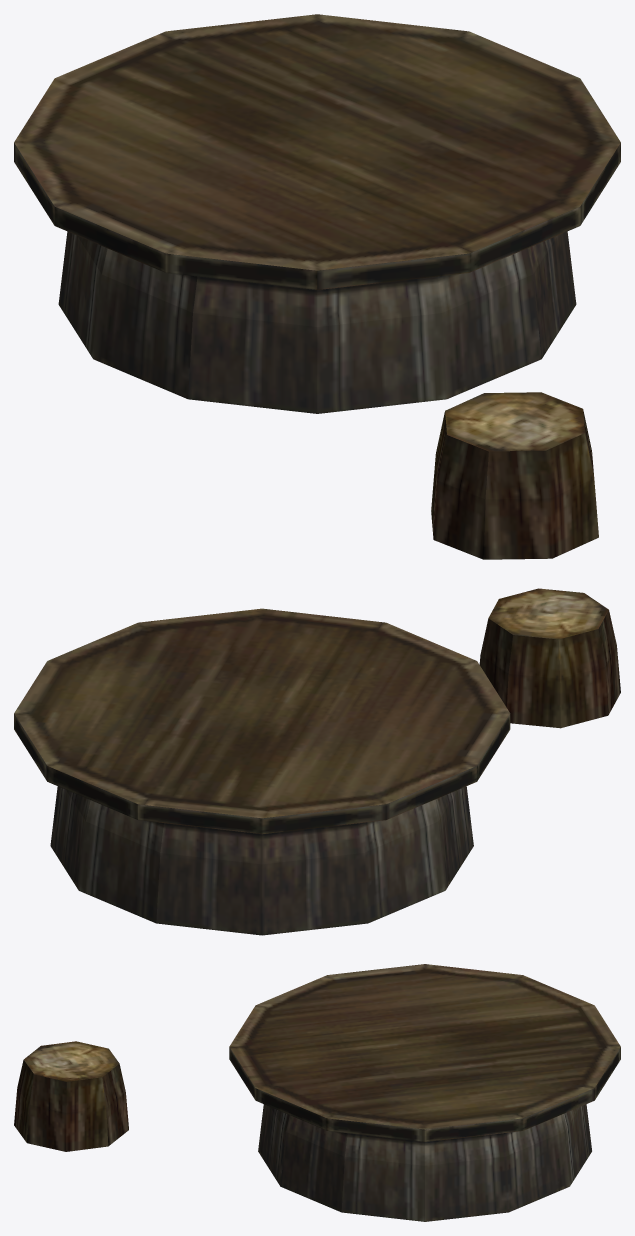
3 renders of one model, top to bottom at view 1: azimuth 30°, elevation 25°; view 2: azimuth 150°, elevation 25°; view 3: azimuth 270°, elevation 25°, orthographic. The views are drawn at different scales.
Visible parts, largest first — view 1: Sphere01; view 2: Sphere01; view 3: Sphere01.
Boxes of the visible parts, left/top/right/bottom form: Sphere01: left=14, top=14, right=620, bottom=559; Sphere01: left=14, top=588, right=620, bottom=935; Sphere01: left=14, top=964, right=620, bottom=1221.
Size of the model in its own units: 2.71 by 0.8014 by 4.2.
